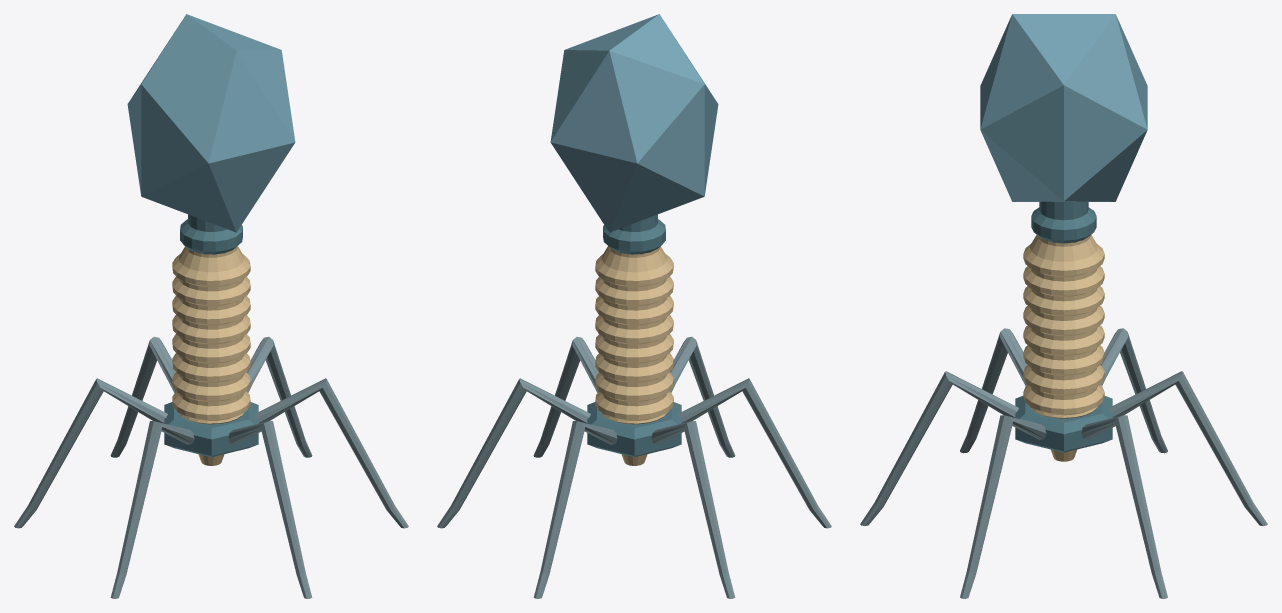
3 views of the same model, side by side, from view 1: azimuth 30°, elevation 25°; view 2: azimuth 150°, elevation 25°; view 3: azimuth 270°, elevation 25° (orthographic). The views are drawn at different scales.
Visible parts, largest first — view 1: WholeFacetedClosedHead, WholeContinuousRingFoldedAxialSheath, WholeBentRadialTailFibre3, WholeBentRadialTailFibre6, WholeHexagonalBasalPlate, WholeBentRadialTailFibre5, WholeBentRadialTailFibre4, WholeBentRadialTailFibre2, WholeBentRadialTailFibre1, WholeNarrowNeckAndCollar; view 2: WholeFacetedClosedHead, WholeContinuousRingFoldedAxialSheath, WholeBentRadialTailFibre1, WholeBentRadialTailFibre4, WholeHexagonalBasalPlate, WholeBentRadialTailFibre3, WholeBentRadialTailFibre2, WholeBentRadialTailFibre6, WholeBentRadialTailFibre5, WholeNarrowNeckAndCollar; view 3: WholeFacetedClosedHead, WholeContinuousRingFoldedAxialSheath, WholeBentRadialTailFibre5, WholeBentRadialTailFibre2, WholeHexagonalBasalPlate, WholeBentRadialTailFibre1, WholeBentRadialTailFibre6, WholeNarrowNeckAndCollar, WholeBentRadialTailFibre4, WholeBentRadialTailFibre3.
Boxes of the visible parts, left/top/right/bottom form: WholeFacetedClosedHead: left=127, top=14, right=295, bottom=232; WholeContinuousRingFoldedAxialSheath: left=172, top=246, right=250, bottom=424; WholeBentRadialTailFibre3: left=14, top=378, right=167, bottom=528; WholeBentRadialTailFibre6: left=255, top=378, right=408, bottom=528; WholeHexagonalBasalPlate: left=164, top=402, right=258, bottom=457; WholeBentRadialTailFibre5: left=228, top=421, right=312, bottom=598; WholeBentRadialTailFibre4: left=110, top=421, right=194, bottom=598; WholeBentRadialTailFibre2: left=110, top=336, right=175, bottom=457; WholeBentRadialTailFibre1: left=247, top=336, right=312, bottom=457; WholeNarrowNeckAndCollar: left=180, top=214, right=242, bottom=254; WholeFacetedClosedHead: left=550, top=14, right=718, bottom=232; WholeContinuousRingFoldedAxialSheath: left=595, top=246, right=673, bottom=424; WholeBentRadialTailFibre1: left=437, top=378, right=590, bottom=528; WholeBentRadialTailFibre4: left=678, top=378, right=831, bottom=528; WholeHexagonalBasalPlate: left=587, top=402, right=681, bottom=457; WholeBentRadialTailFibre3: left=651, top=421, right=735, bottom=598; WholeBentRadialTailFibre2: left=533, top=421, right=617, bottom=598; WholeBentRadialTailFibre6: left=533, top=336, right=598, bottom=457; WholeBentRadialTailFibre5: left=670, top=336, right=735, bottom=457; WholeNarrowNeckAndCollar: left=603, top=214, right=665, bottom=254; WholeFacetedClosedHead: left=980, top=14, right=1147, bottom=201; WholeContinuousRingFoldedAxialSheath: left=1023, top=235, right=1104, bottom=418; WholeBentRadialTailFibre5: left=860, top=371, right=1018, bottom=525; WholeBentRadialTailFibre2: left=1109, top=371, right=1267, bottom=525; WholeHexagonalBasalPlate: left=1015, top=396, right=1112, bottom=452; WholeBentRadialTailFibre1: left=1081, top=415, right=1167, bottom=598; WholeBentRadialTailFibre6: left=960, top=415, right=1046, bottom=598; WholeNarrowNeckAndCollar: left=1031, top=201, right=1096, bottom=243; WholeBentRadialTailFibre4: left=960, top=328, right=1027, bottom=453; WholeBentRadialTailFibre3: left=1100, top=328, right=1167, bottom=453.
Size of the model in its own units: 1.51 by 2.4 by 1.74.
